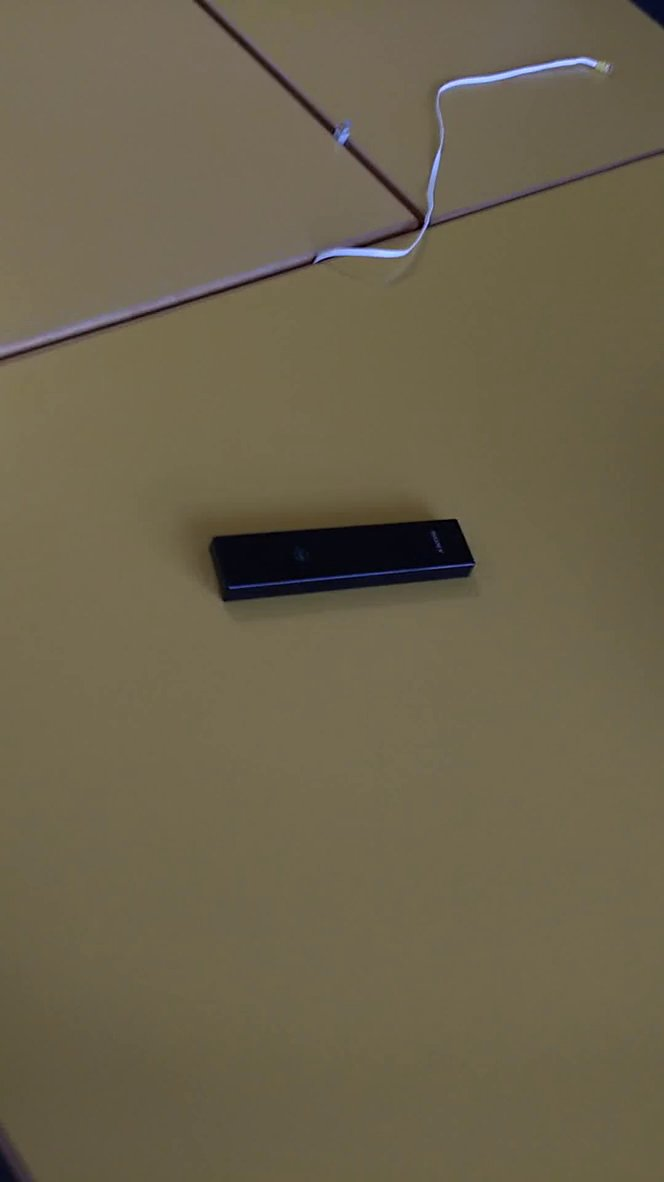remote: (194, 507, 487, 613)
